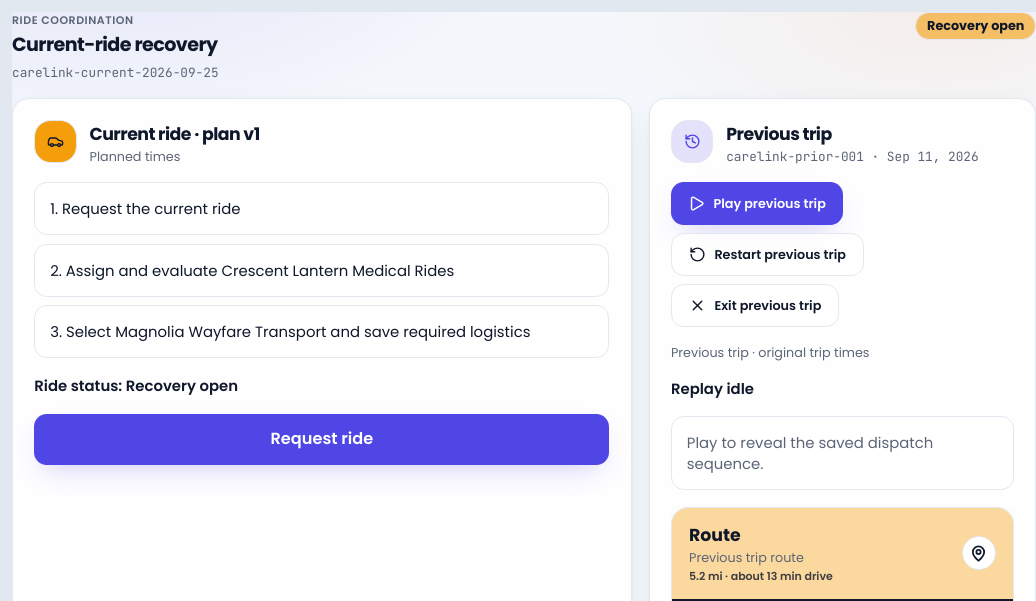
Test: RIDE-001 provider extensibility labels › exposes local previous-trip replay controls and truth labels
Expected: the text "carelink-prior-001" is shown, [726, 148, 864, 165]
Expected: the text "Previous trip · original trip times" is shown, [671, 344, 869, 361]
Click the button "Play previous trip".
click(757, 204)  # box [671, 182, 843, 225]
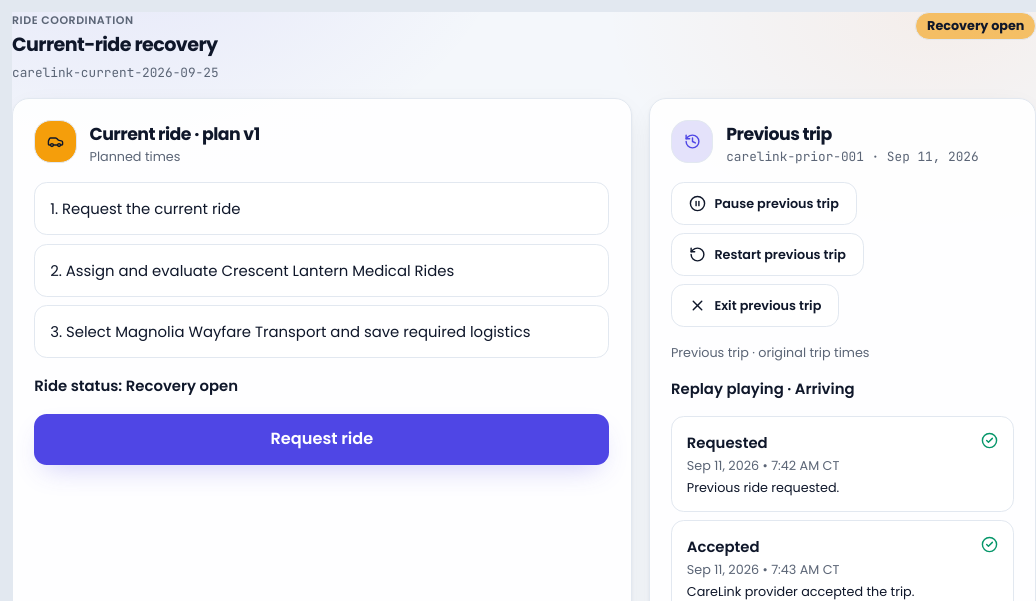
Expected: the button "Restart previous trip" is shown, [671, 233, 864, 276]
Expected: the text "Requested" is shown, [687, 432, 768, 453]
Expected: the button "Pause previous trip" is shown, [671, 182, 857, 225]
